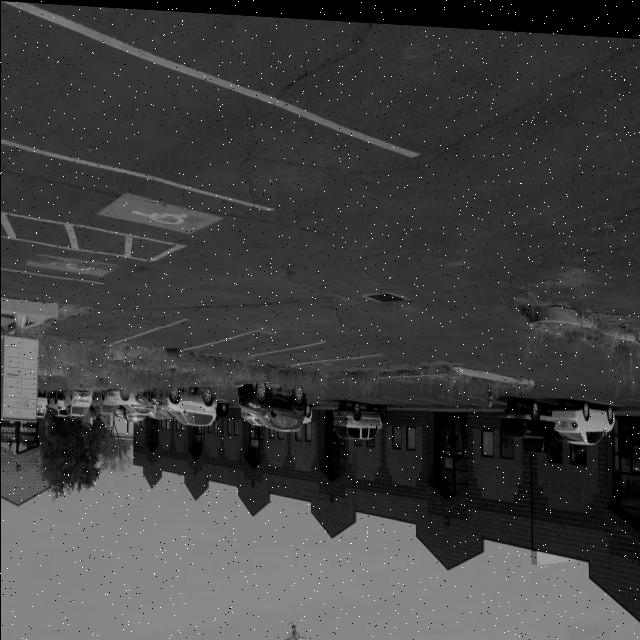drone: (280, 617, 304, 640)
